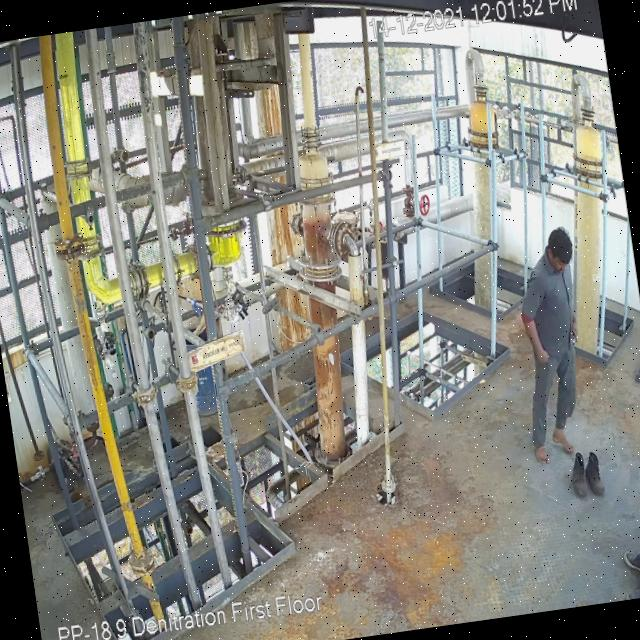boots: (580, 446, 612, 506), (564, 450, 590, 499)
no-boots: (551, 423, 576, 457), (528, 434, 551, 465)
